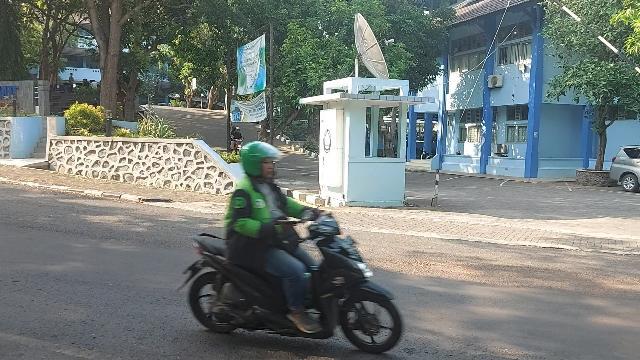helm: (242, 142, 286, 178)
motor: (177, 198, 404, 355)
